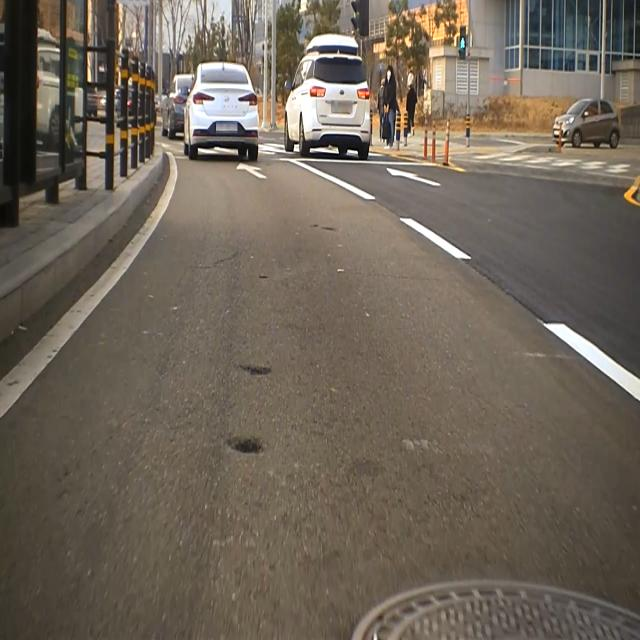Pothole: (225, 428, 274, 468), (230, 356, 276, 386)
